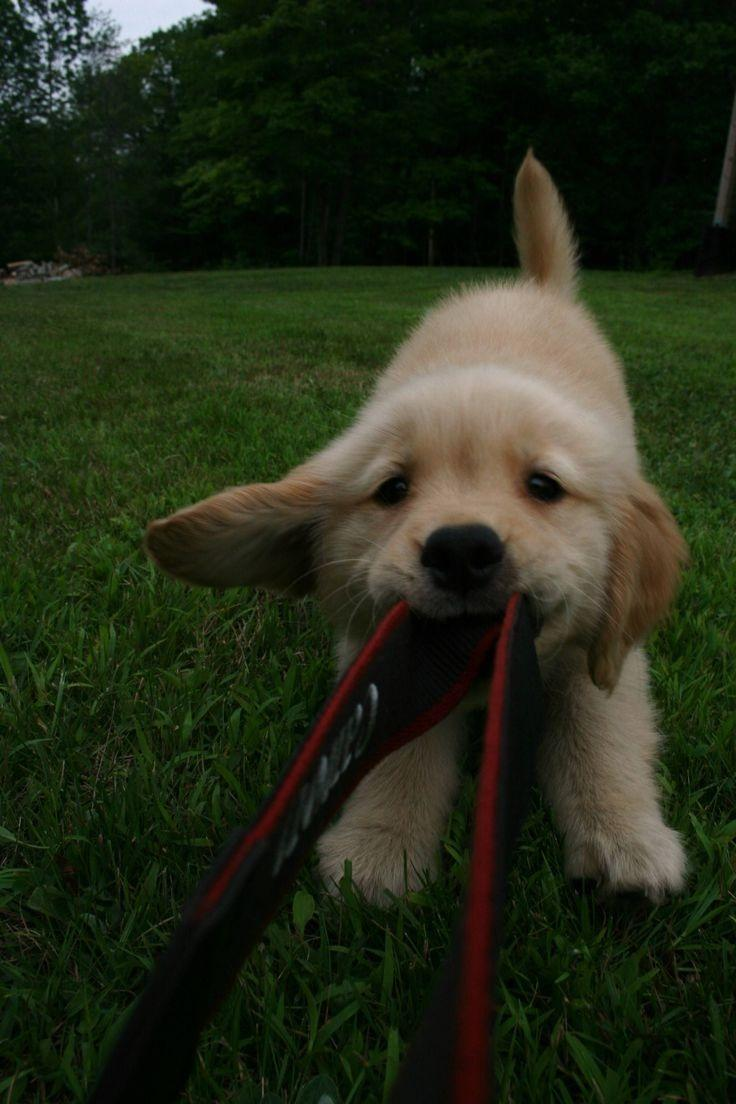puppy-dog: (145, 145, 694, 931)
